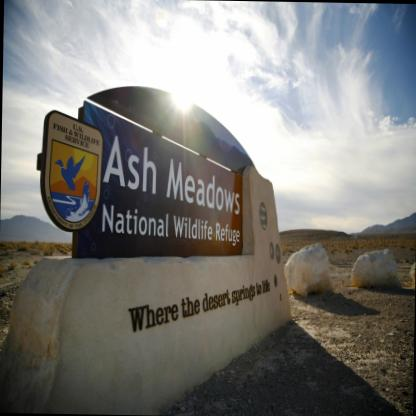Animal: (53, 156, 84, 191)
